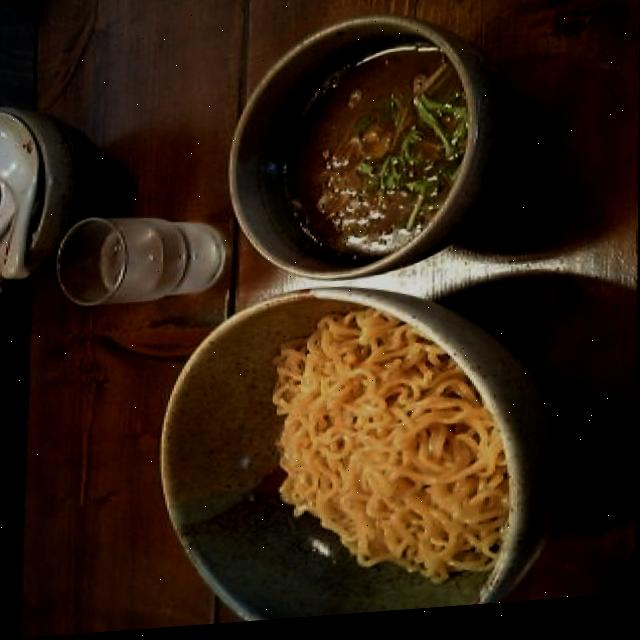面条主食: (256, 37, 539, 601)
